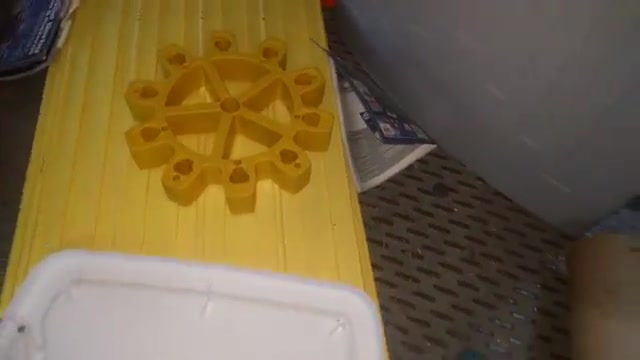gear: (107, 30, 359, 224)
